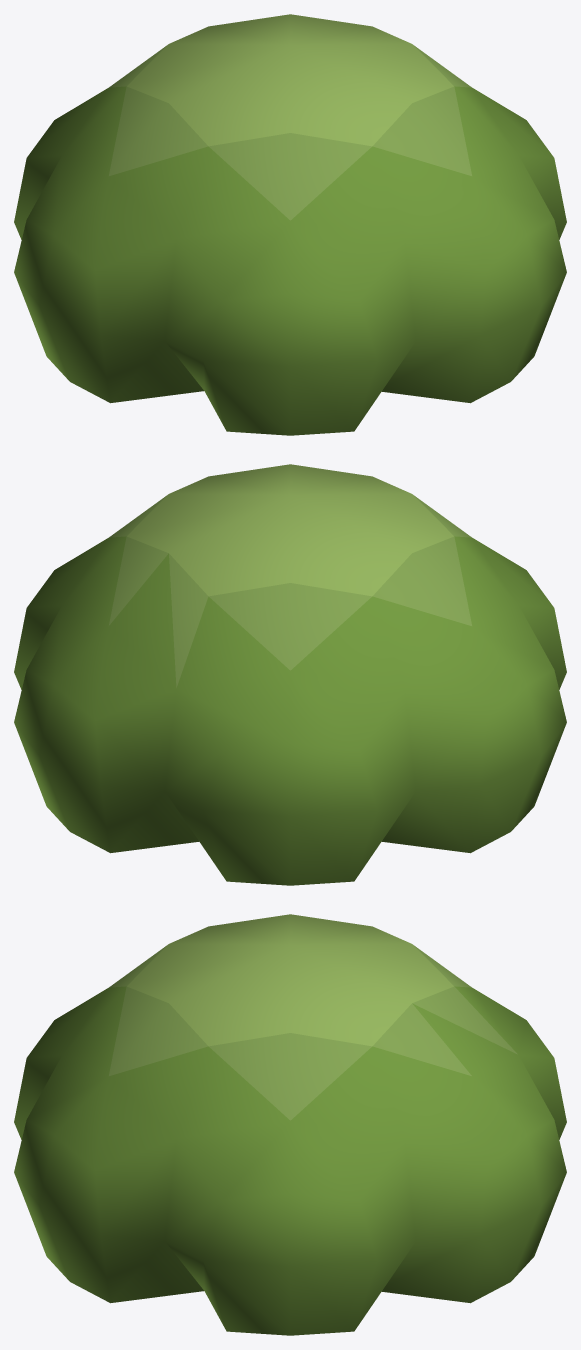
Rendered from itch_tiny_pretty_park_bush.glb.
3 views of the same model, one above another, from view 1: azimuth 30°, elevation 25°; view 2: azimuth 150°, elevation 25°; view 3: azimuth 270°, elevation 25° (orthographic).
Visible parts, largest first — view 1: bush; view 2: bush; view 3: bush.
Part boxes in pixels (x1,y1,x2,y2): bush: (14, 14, 566, 435); bush: (14, 464, 566, 885); bush: (14, 914, 566, 1335).
Bounding box in the file's own units: 0.96 × 0.517 × 0.9154.
